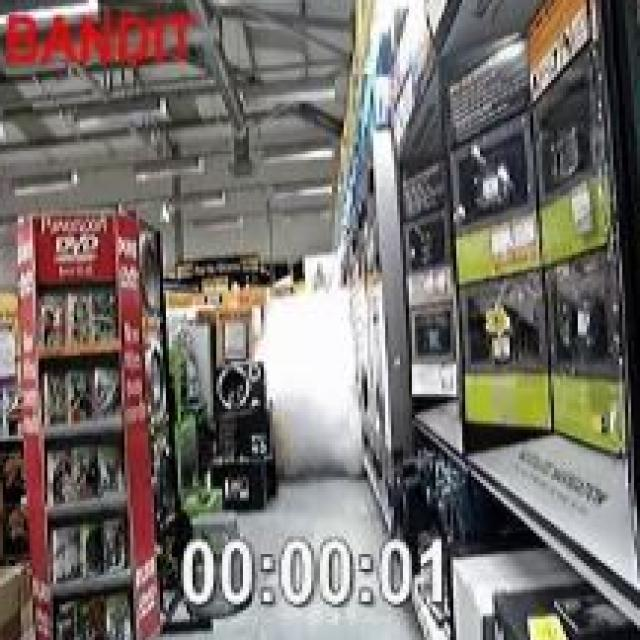fire: (258, 281, 368, 480)
